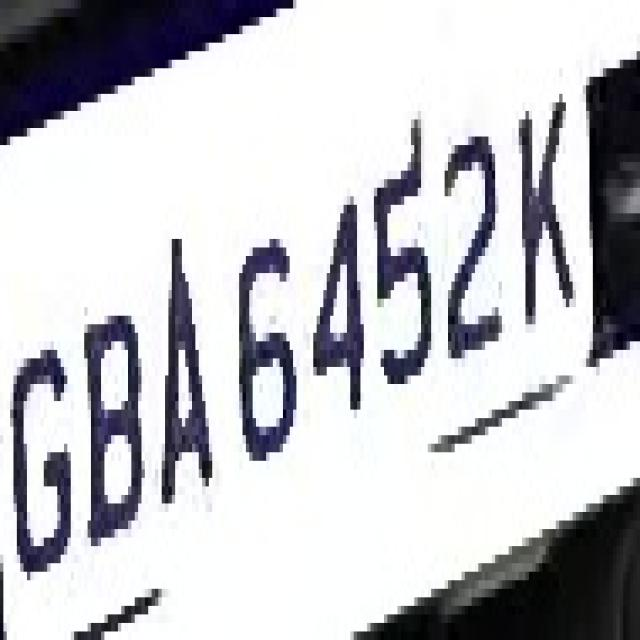2: (438, 94, 509, 392)
4: (300, 162, 374, 452)
5: (357, 128, 438, 401)
6: (236, 213, 306, 478)
A: (148, 188, 219, 546)
B: (84, 282, 152, 554)
G: (13, 316, 81, 580)
K: (505, 77, 576, 350)
